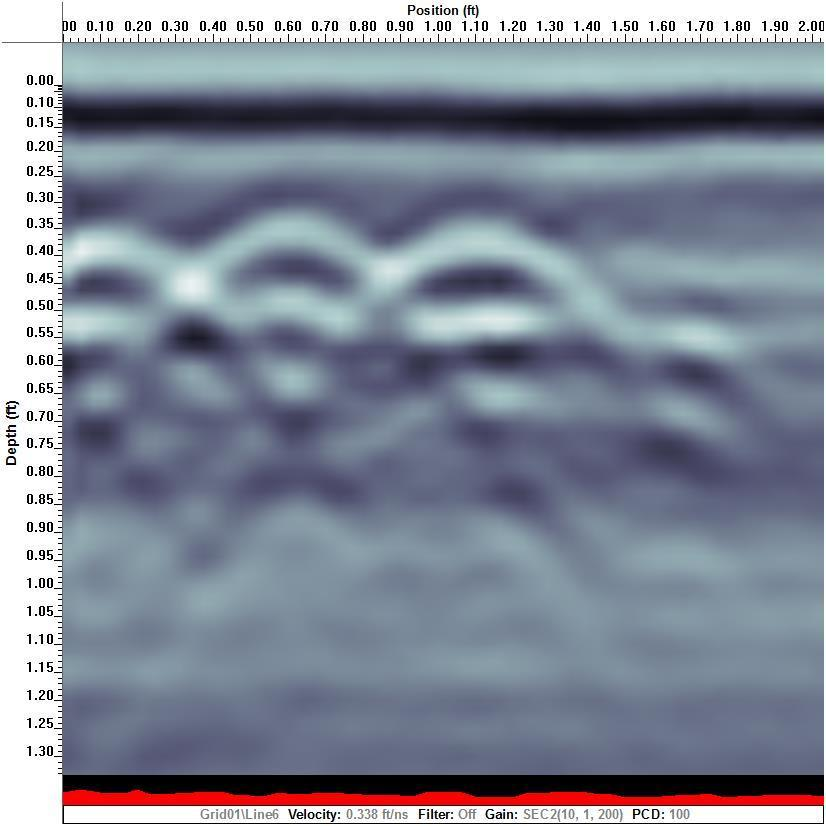hyperbola: (270, 215, 658, 468), (99, 209, 486, 462), (60, 219, 310, 483)
